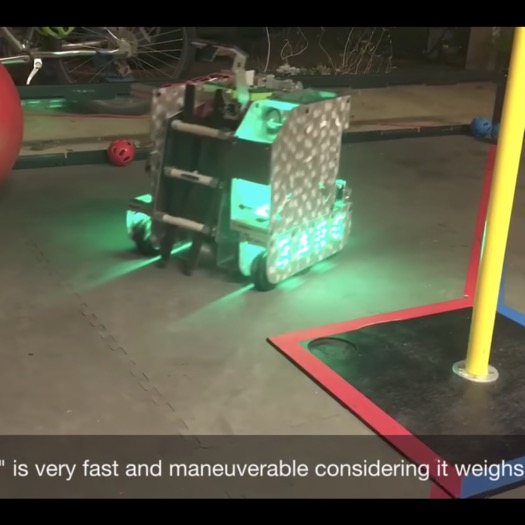blueball: (468, 114, 493, 138)
redball: (106, 137, 135, 166)
robot: (120, 62, 358, 294)
yogaball: (0, 53, 28, 191)
